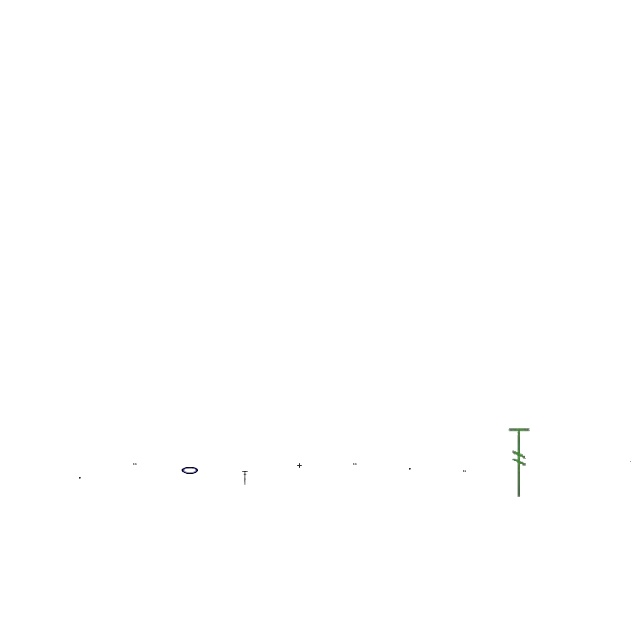chain: (180, 463, 200, 477), (133, 463, 137, 465), (353, 463, 357, 465), (79, 477, 81, 479), (409, 468, 411, 470), (464, 470, 466, 472), (629, 462, 631, 462)
double: (298, 464, 302, 468)
double treble: (242, 471, 248, 485)
fan: (506, 426, 534, 500)
